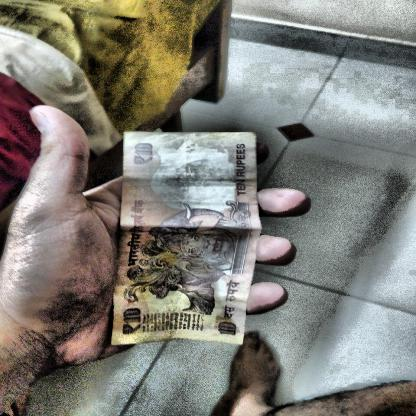Rs10: (119, 306, 144, 335), (130, 141, 157, 167), (216, 318, 240, 340)
